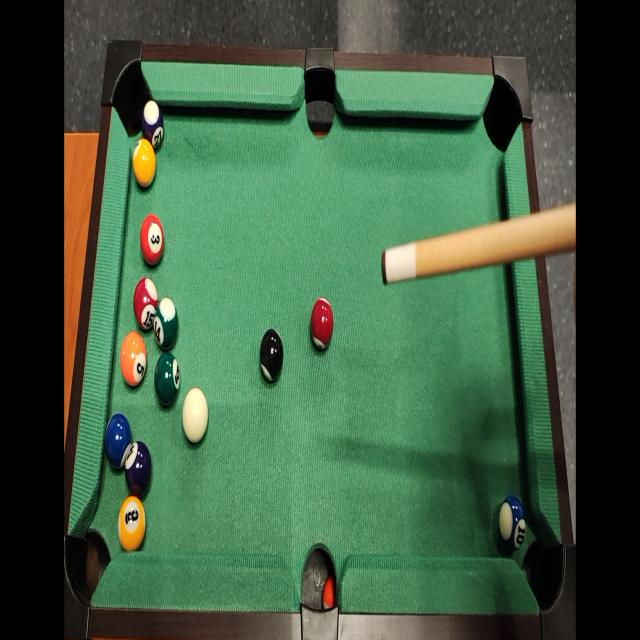cue ball: (181, 385, 209, 447)
other: (495, 487, 528, 555), (117, 491, 147, 562), (130, 277, 161, 334), (124, 438, 152, 501), (154, 350, 182, 412), (119, 326, 148, 385), (138, 211, 166, 271), (104, 411, 132, 470), (138, 96, 166, 152), (309, 295, 335, 352), (259, 326, 285, 383), (154, 296, 180, 352), (132, 138, 158, 187)
